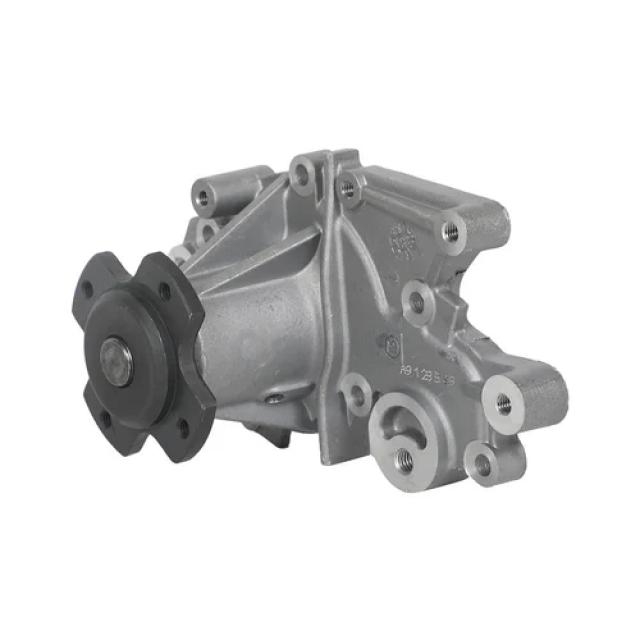video2: (69, 146, 571, 498)
